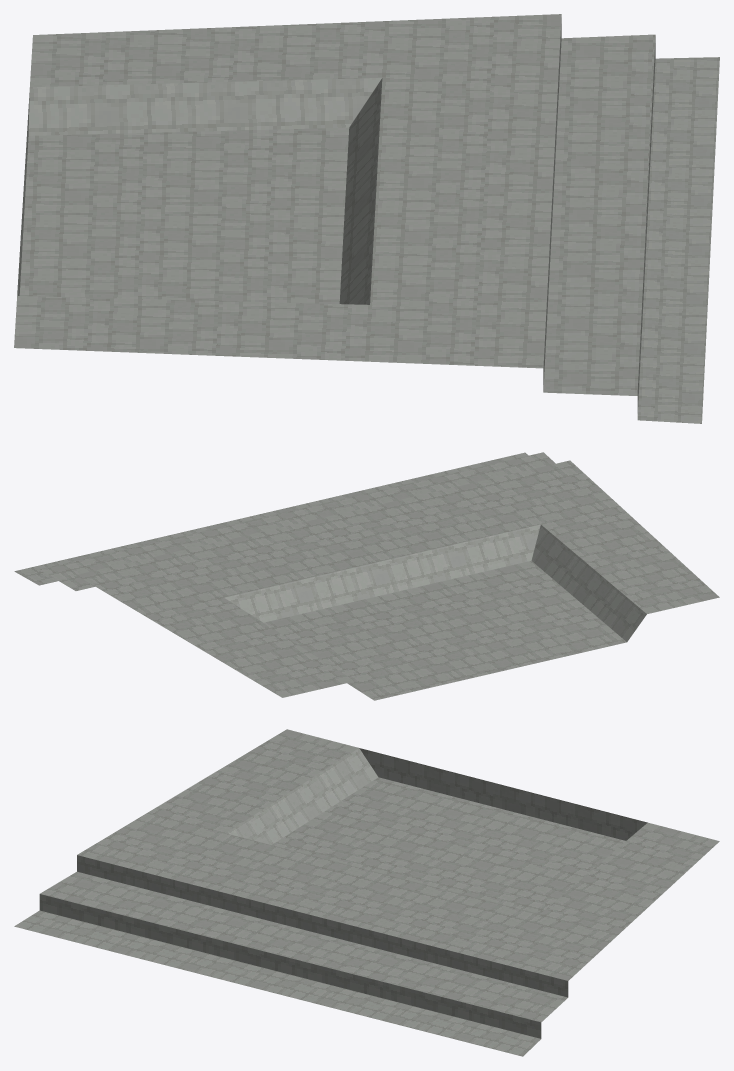
File: kd_stage_1366d7_1_6.glb
3 views of the same model, one above another, from view 1: azimuth 30°, elevation 25°; view 2: azimuth 150°, elevation 25°; view 3: azimuth 270°, elevation 25° (orthographic). The views are drawn at different scales.
Parts seen in each view (by area): view 1: kd_stage_1366d7_1_6; view 2: kd_stage_1366d7_1_6; view 3: kd_stage_1366d7_1_6.
Part boxes in pixels (<box>): kd_stage_1366d7_1_6: <box>14,14,719,423</box>; kd_stage_1366d7_1_6: <box>14,452,719,700</box>; kd_stage_1366d7_1_6: <box>14,729,719,1056</box>.
Size of the model in its own units: 10.97 by 0.5894 by 11.15.
Materials: 1 (1 with a texture image).
